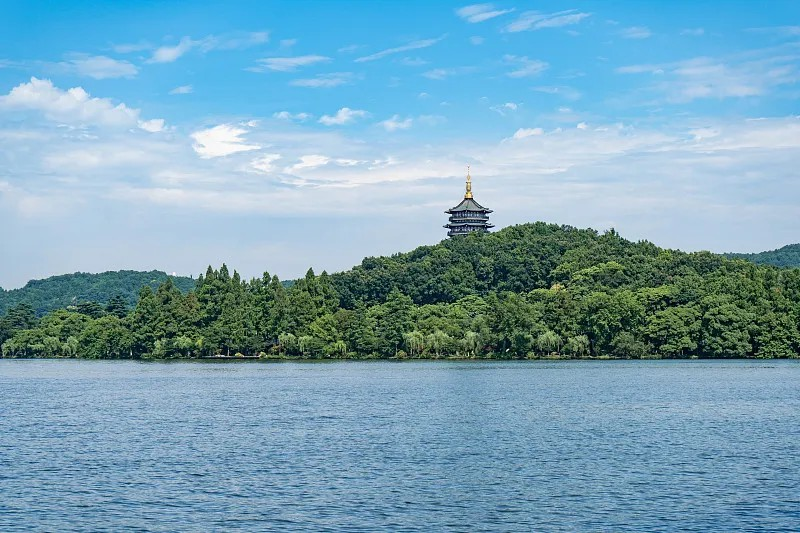Leifeng: (443, 164, 492, 240)
